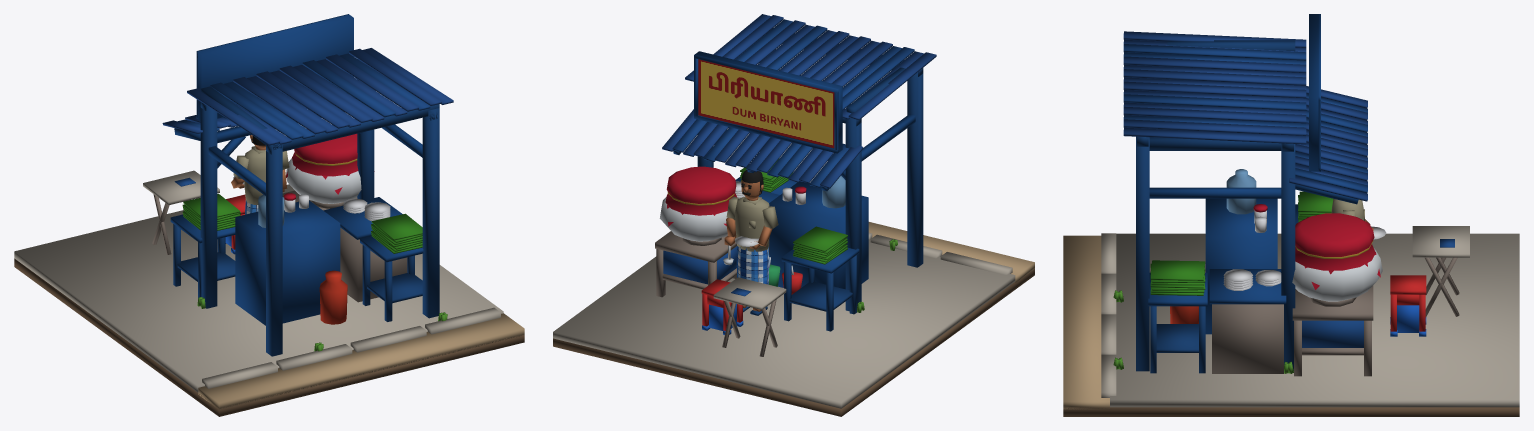
File: biryani_stall_a.glb
3 views of the same model, side by side, from view 1: azimuth 30°, elevation 25°; view 2: azimuth 150°, elevation 25°; view 3: azimuth 270°, elevation 25° (orthographic). The views are drawn at different scales.
Visible parts, largest first — view 1: stall; view 2: stall, sign, lungi; view 3: stall.
Boxes of the visible parts, <box> form: stall: <box>14,14,524,416</box>; stall: <box>553,14,1034,416</box>; sign: <box>698,59,834,148</box>; lungi: <box>736,246,769,306</box>; stall: <box>1063,14,1519,416</box>.
Size of the model in its own units: 3.7 by 2.99 by 4.3.
3 materials, 2 textured.
